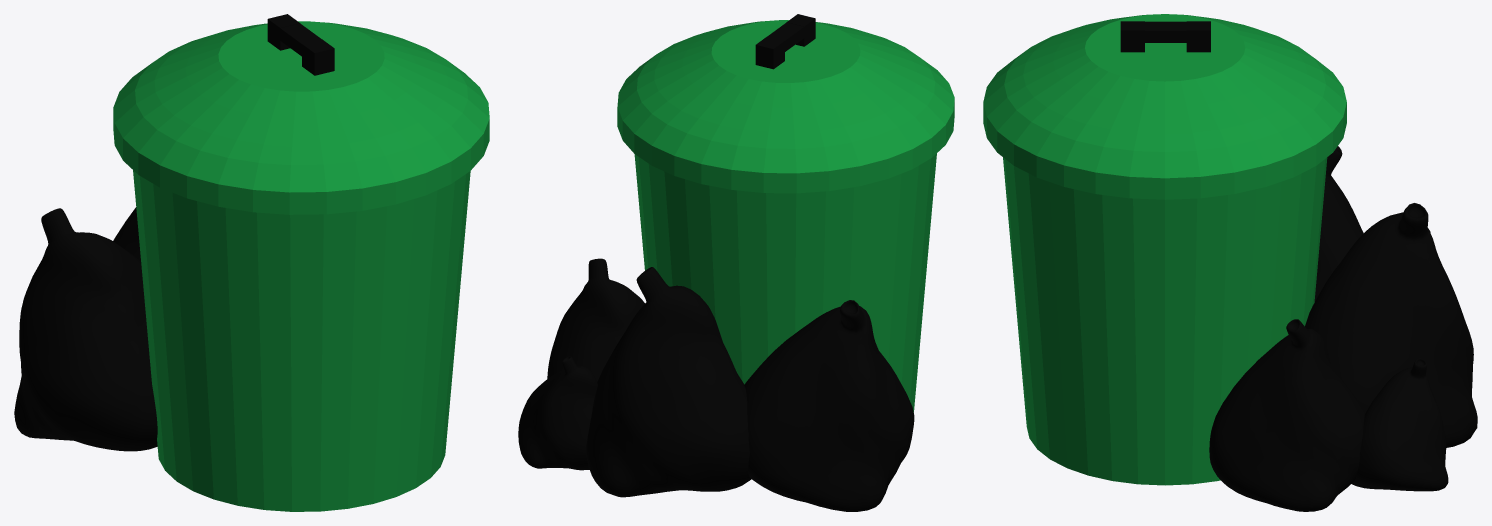
Rendered from tacho de basura.fbx.
3 renders of one model, left to right at view 1: azimuth 30°, elevation 25°; view 2: azimuth 150°, elevation 25°; view 3: azimuth 270°, elevation 25°, orthographic. The views are drawn at different scales.
Visible parts, largest first — view 1: tacho, basura; view 2: tacho, basura; view 3: tacho, basura.
Part boxes in pixels (<box>): tacho: <box>113,14,489,511</box>; basura: <box>14,207,157,451</box>; tacho: <box>617,14,954,412</box>; basura: <box>518,258,914,511</box>; tacho: <box>983,14,1346,485</box>; basura: <box>1209,146,1477,511</box>.
Size of the model in its own units: 317 by 330 by 357.
Materials: 2 (2 with a texture image).
